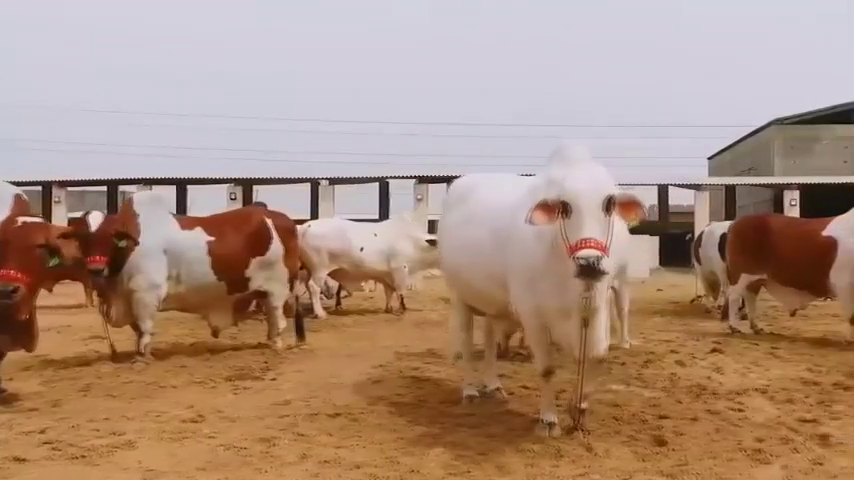bo: (429, 137, 645, 445), (64, 172, 311, 367), (722, 193, 854, 350), (293, 194, 445, 322), (1, 167, 61, 406), (683, 206, 736, 307)
